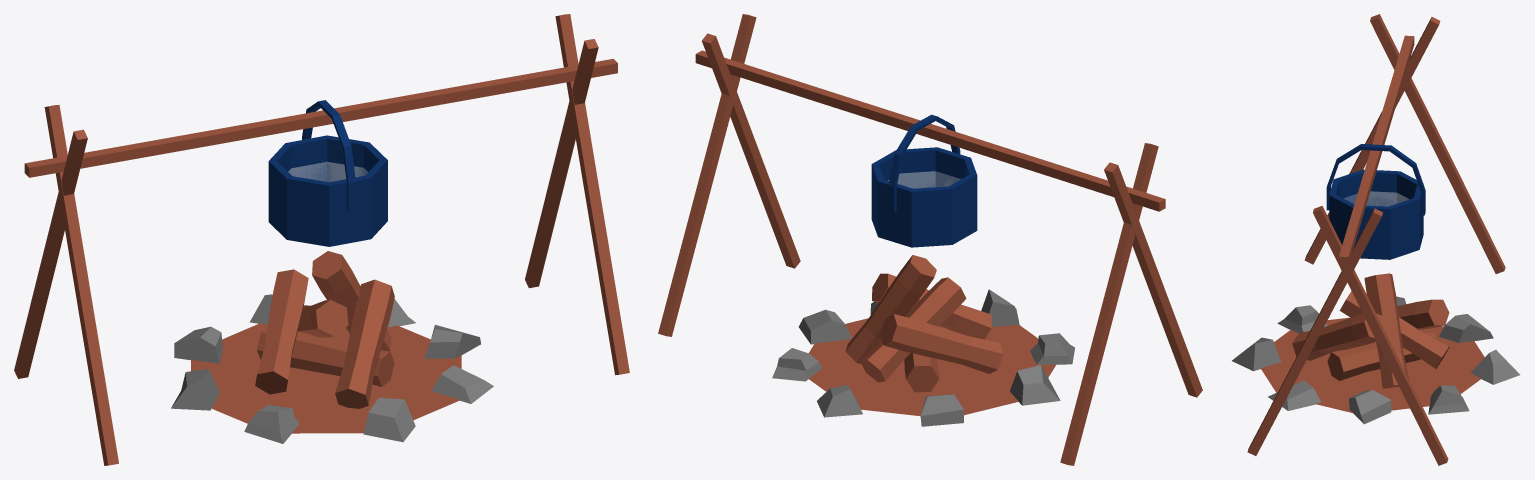
The model's file is Campfire.glb.
3 renders of one model, left to right at view 1: azimuth 30°, elevation 25°; view 2: azimuth 150°, elevation 25°; view 3: azimuth 270°, elevation 25°, orthographic. The views are drawn at different scales.
Visible parts, largest first — view 1: Stick 1, Log 4, Floor, Handle, Rock 7.001, Handle.001; view 2: Stick 1, Log 4, Handle, Floor, Rock 7.001, Handle.001; view 3: Stick 1, Log 4, Handle, Floor, Rock 7.001, Handle.001.
Boxes of the visible parts, box(x1,y1,x2,y2) form: Stick 1: box(14, 14, 629, 465); Log 4: box(255, 251, 394, 408); Floor: box(191, 323, 461, 433); Handle: box(268, 100, 387, 246); Rock 7.001: box(171, 294, 493, 443); Handle.001: box(288, 162, 367, 181); Stick 1: box(658, 14, 1202, 465); Log 4: box(845, 255, 1003, 392); Handle: box(871, 114, 977, 247); Floor: box(809, 318, 1055, 416); Rock 7.001: box(772, 289, 1074, 426); Handle.001: box(888, 171, 960, 188); Stick 1: box(1247, 14, 1505, 465); Log 4: box(1292, 273, 1449, 388); Handle: box(1326, 144, 1425, 259); Floor: box(1261, 317, 1484, 412); Rock 7.001: box(1232, 296, 1519, 424); Handle.001: box(1344, 191, 1408, 206).
Bounding box in the file's own units: 2.8 × 1.49 × 1.54.
Materials: 5 (4 with a texture image).
